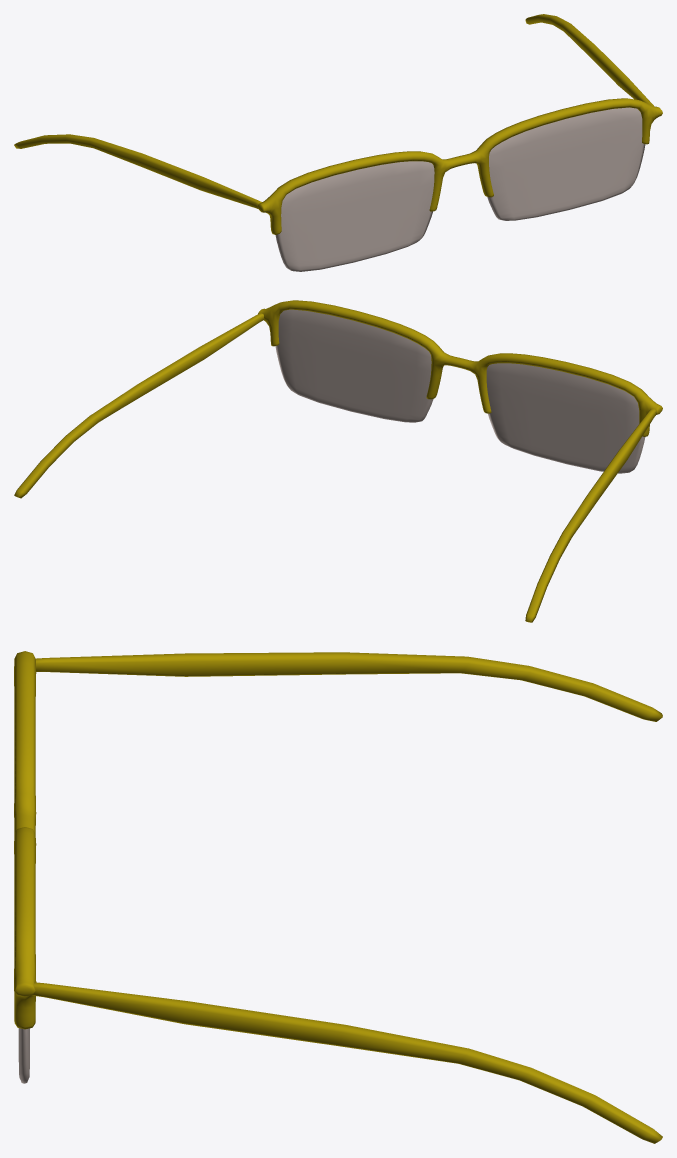
The picture shows the model from 3 angles, top to bottom: view 1: azimuth 30°, elevation 25°; view 2: azimuth 150°, elevation 25°; view 3: azimuth 270°, elevation 25°; orthographic projection. The views are drawn at different scales.
Parts seen in each view (by area): view 1: glassesReading; view 2: glassesReading; view 3: glassesReading.
Part boxes in pixels (left/top/right/bottom): glassesReading: left=14, top=14, right=662, bottom=271; glassesReading: left=14, top=300, right=662, bottom=622; glassesReading: left=14, top=651, right=662, bottom=1143.
Size of the model in its own units: 0.4754 by 0.0886 by 0.3049.
Materials: 2 (1 with a texture image).
